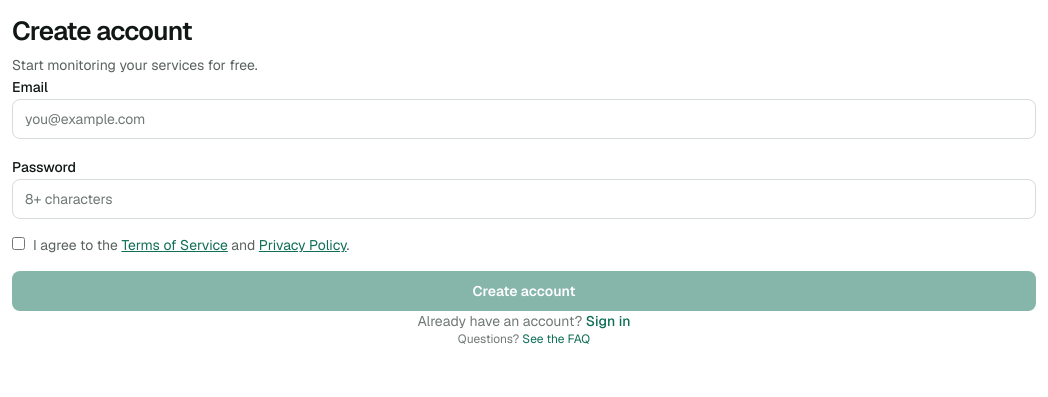
Test: SignUpView › shows a generic error message on a non-409 failure
The width and height of the screenshot is (1048, 397).
Type "a@b.com" into the field with id "email".
click(524, 119); type("a@b.com")  # box [12,99,1036,139]
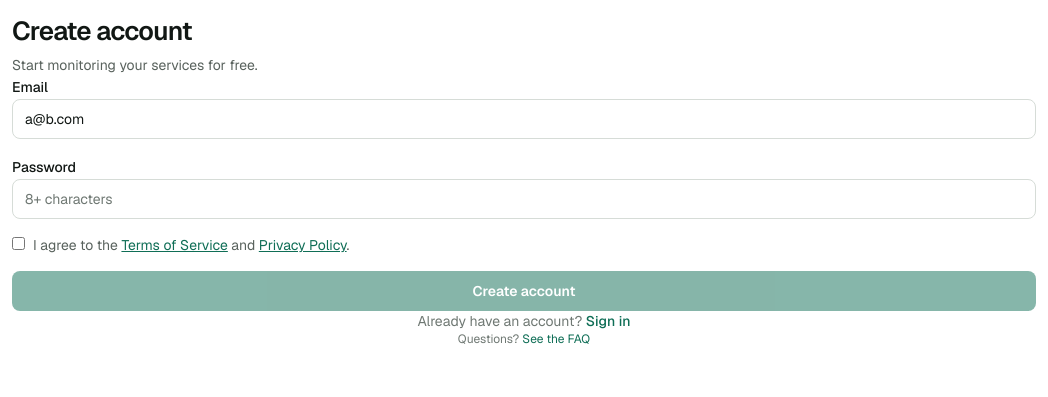
Type "password123" into the password field labelled "Password".
click(524, 199); type("password123")  # box [12,179,1036,219]
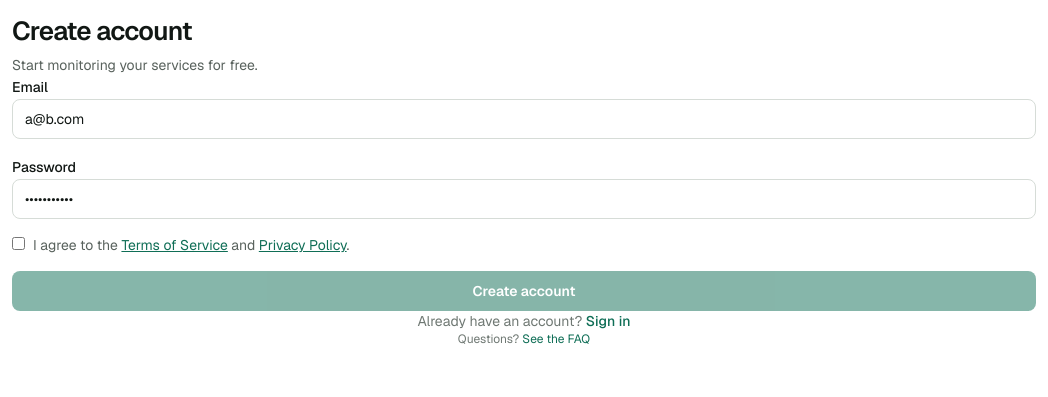
Click the checkbox labelled "I agree to the Terms of Service and Privacy Policy.".
click(18, 244)  # box [12,237,25,250]
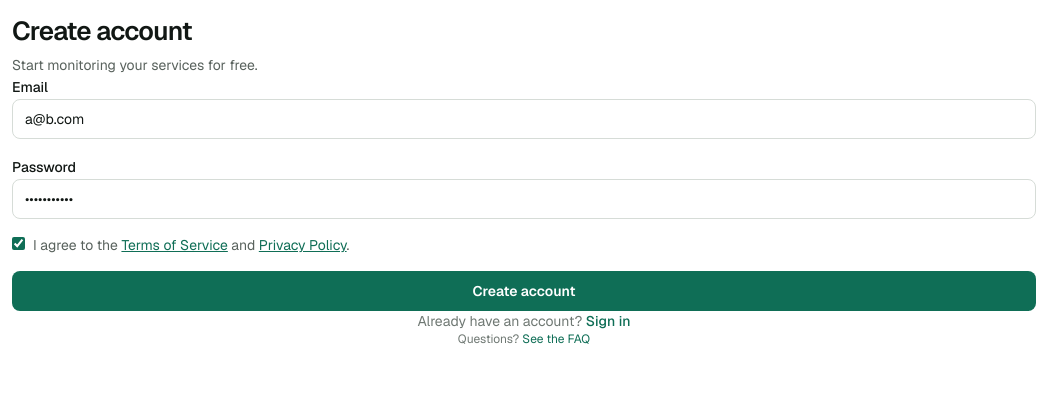
Submit the form, box [12,75,1036,311]
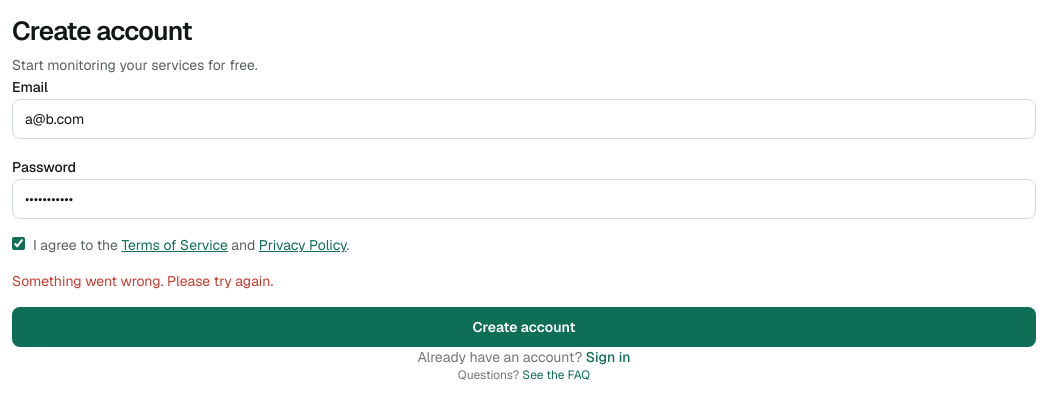
Expected: the text "Something went wrong. Please try again." is shown, [12,272,273,290]
